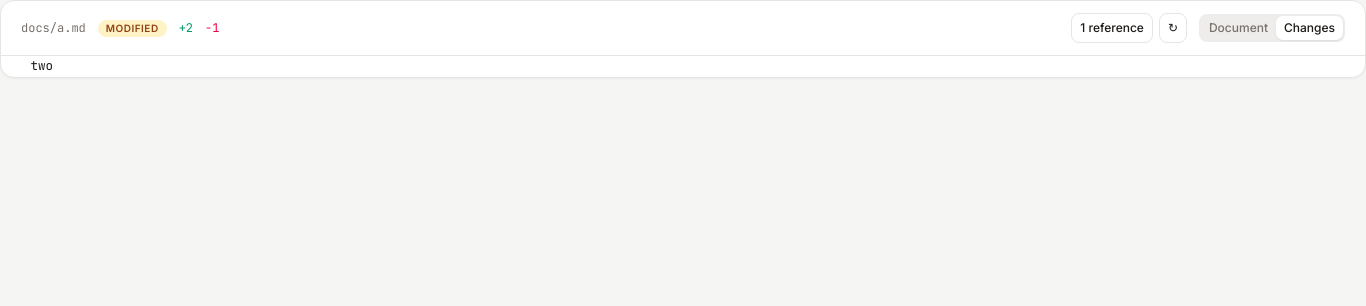
Test: markers stay out of the Changes view
The width and height of the screenshot is (1366, 306).
Expected: the button "1 reference" is shown, [1071,13,1153,43]
Click the button "Document" at (1238, 28), box [1201,16,1276,40]
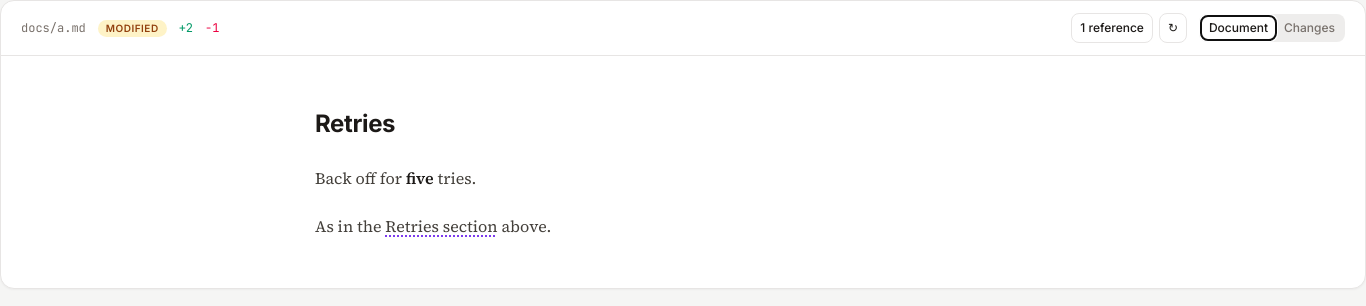
Result: the text "Retries section" is shown at [385,215,498,237]
